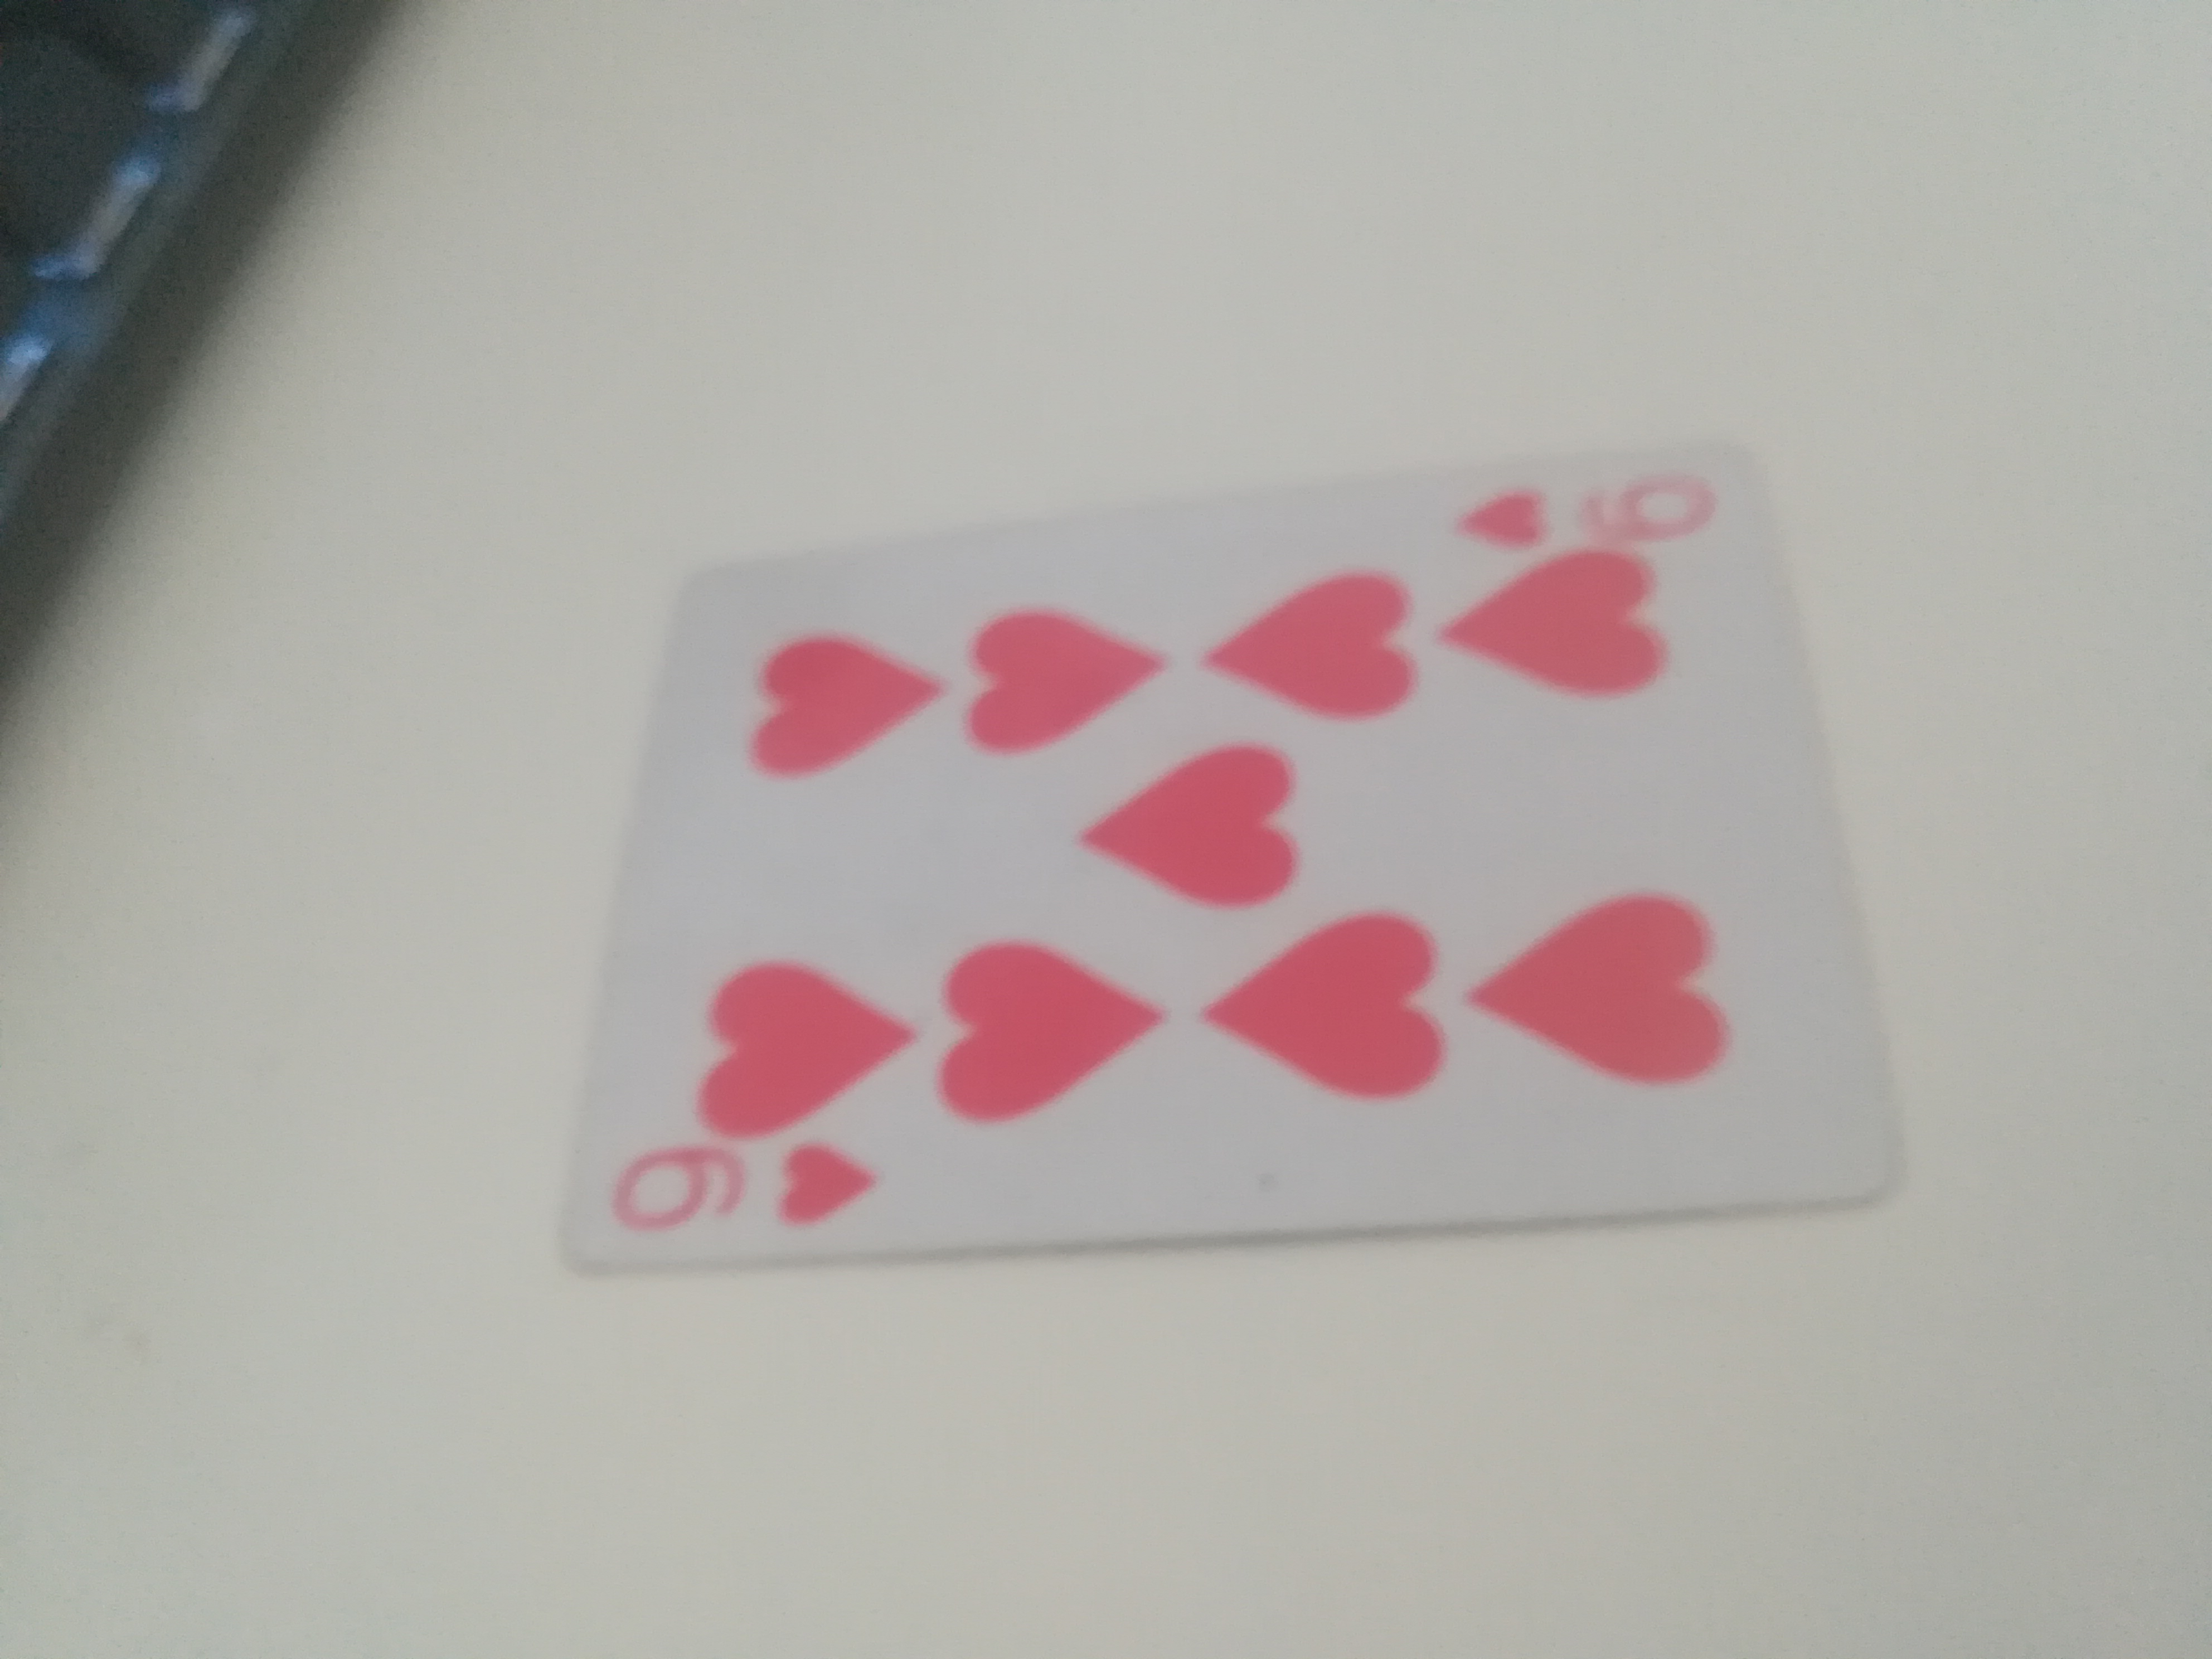9H: (564, 439, 1935, 1303)
